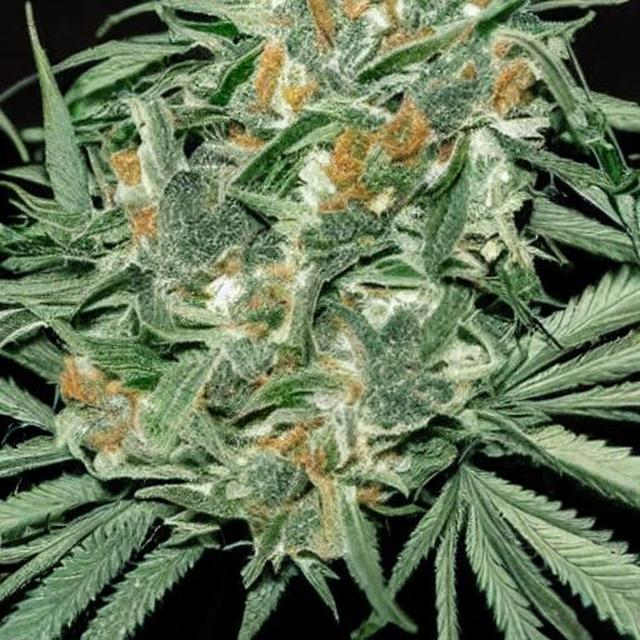Marijuana Joint: (58, 1, 640, 587)
